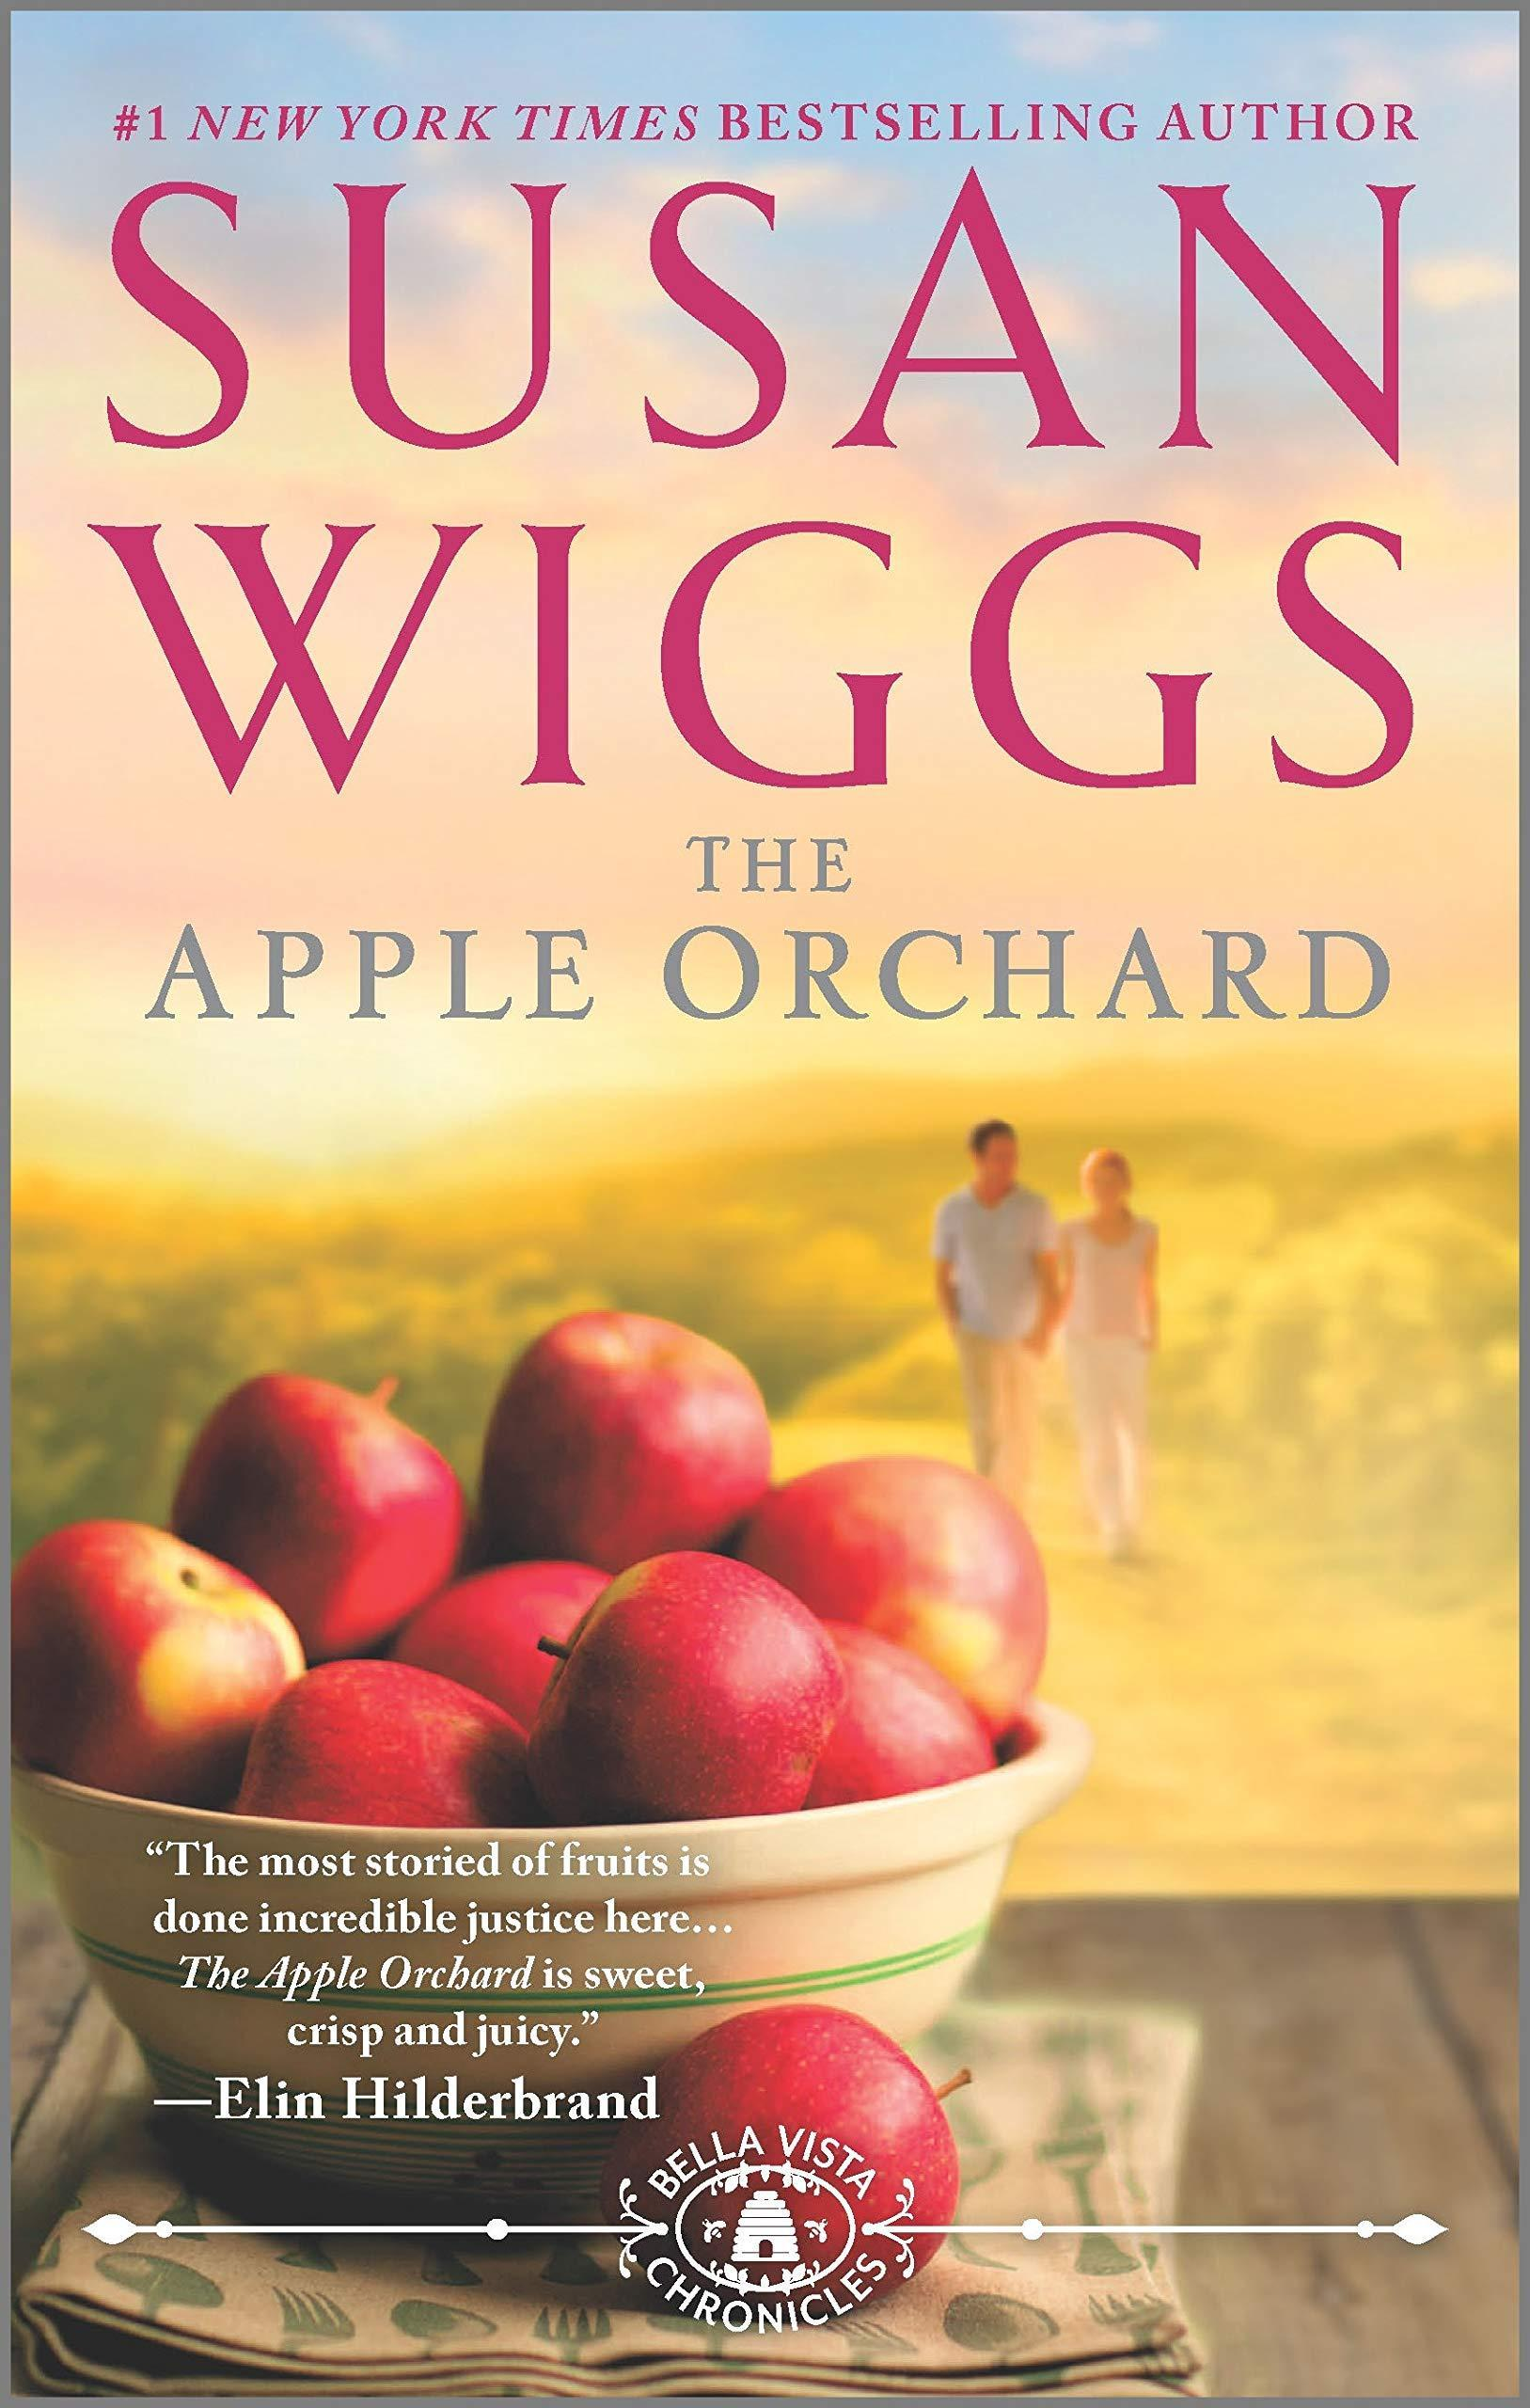apple: (609, 2008, 970, 2313), (519, 1543, 835, 1831), (726, 1450, 1044, 1736), (154, 1369, 463, 1660), (7, 1516, 298, 1801), (477, 1308, 770, 1566), (228, 1660, 542, 1834)
